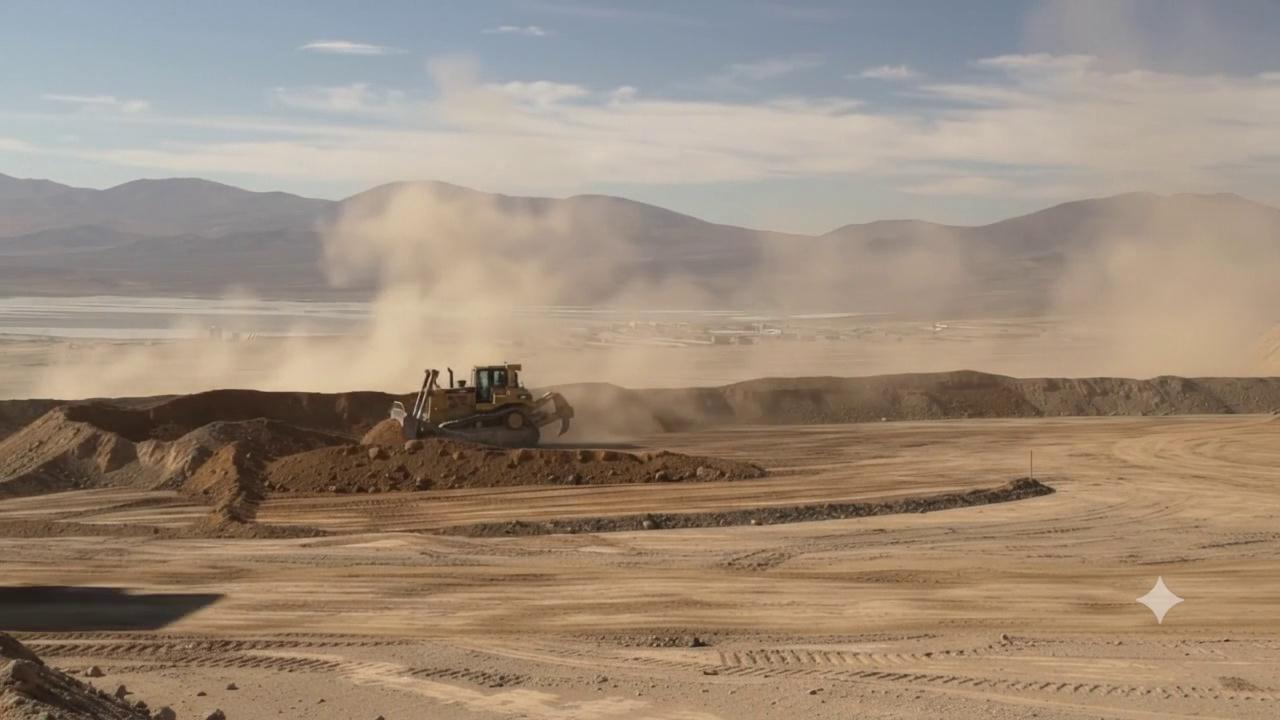CAEX: (402, 364, 574, 450)
